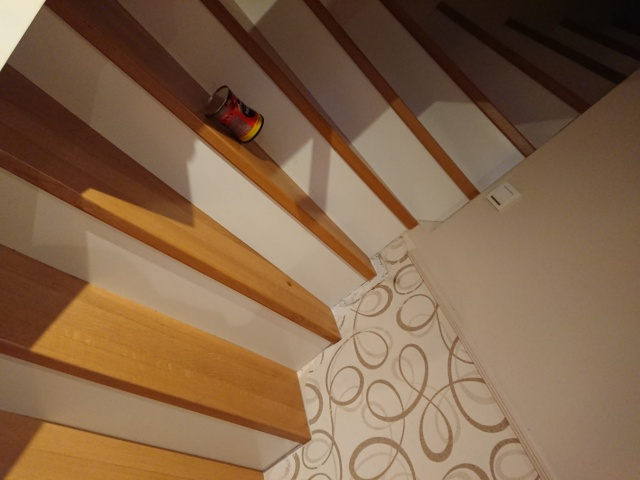Nescafe Classic 225g: (201, 82, 268, 146)
